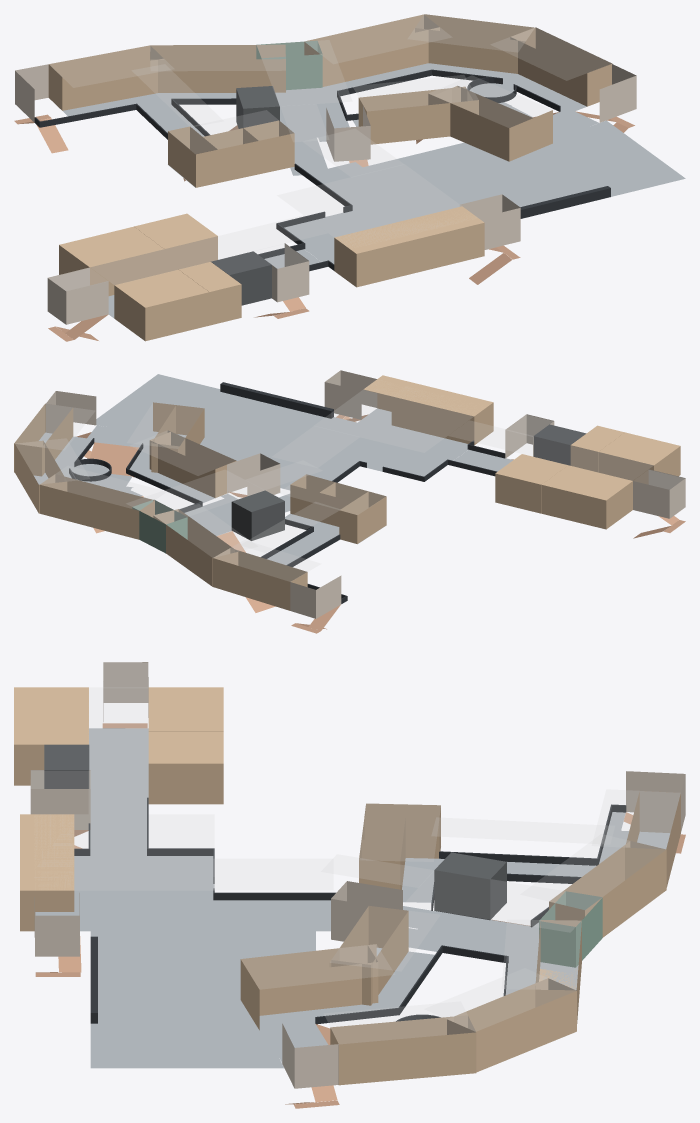
3 renders of one model, top to bottom at view 1: azimuth 30°, elevation 25°; view 2: azimuth 150°, elevation 25°; view 3: azimuth 270°, elevation 25°, orthographic. The views are drawn at different scales.
Parts seen in each view (by area): view 1: Cube.002, 立方體.147, 立方體.186, 立方體.103, 丁棟4F, 立方體.096, 立方體.187, 立方體.131, 立方體.181, 立方體.047, 立方體.121, 立方體.010 (+51 smaller); view 2: Cube.002, 立方體.147, 立方體.035, 立方體.186, 立方體.047, 立方體.187, 丁棟4F, 立方體.181, 立方體.096, 立方體.020, 立方體.103, 立方體.053 (+48 smaller); view 3: Cube.002, 立方體.035, 立方體.186, 立方體.131, 立方體.027, 立方體.187, 立方體.181, 立方體.147, 立方體.053, 立方體.183, 立方體.179, 立方體.103 (+45 smaller).
Part boxes in pixels (<box>): Cube.002: <box>363,117,685,214</box>; 立方體.147: <box>334,206,484,287</box>; 立方體.186: <box>277,165,460,245</box>; 立方體.103: <box>150,44,285,92</box>; 丁棟4F: <box>48,45,163,110</box>; 立方體.096: <box>114,269,209,341</box>; 立方體.187: <box>91,216,326,284</box>; 立方體.131: <box>510,27,612,106</box>; 立方體.181: <box>257,40,351,105</box>; 立方體.047: <box>59,226,164,295</box>; 立方體.121: <box>304,15,439,86</box>; 立方體.010: <box>428,93,552,161</box>; Cube.002: <box>96,374,357,479</box>; 立方體.147: <box>363,375,493,444</box>; 立方體.035: <box>314,408,467,476</box>; 立方體.186: <box>314,390,472,452</box>; 立方體.047: <box>541,465,632,529</box>; 立方體.187: <box>449,421,652,480</box>; 丁棟4F: <box>213,548,307,610</box>; 立方體.181: <box>127,470,263,523</box>; 立方體.096: <box>598,432,680,484</box>; 立方體.020: <box>39,485,139,539</box>; 立方體.103: <box>153,509,238,586</box>; 立方體.053: <box>495,454,567,513</box>; Cube.002: <box>90,931,315,1068</box>; 立方體.035: <box>35,855,214,931</box>; 立方體.186: <box>35,815,213,889</box>; 立方體.131: <box>330,1015,476,1085</box>; 立方體.027: <box>89,728,148,855</box>; 立方體.187: <box>89,688,147,813</box>; 立方體.181: <box>404,870,601,931</box>; 立方體.147: <box>20,814,74,931</box>; 立方體.053: <box>148,732,223,804</box>; 立方體.183: <box>521,834,664,909</box>; 立方體.179: <box>502,920,581,989</box>; 立方體.103: <box>549,841,666,937</box>.
Bounding box in the file's own units: 60.81 × 8.08 × 44.75.
